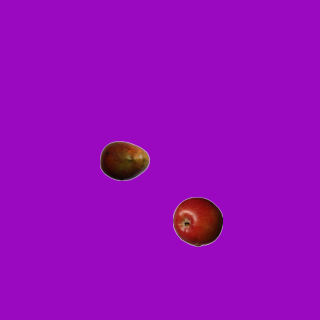Apple Braeburn: (172, 196, 222, 246)
Mango Red: (99, 135, 149, 185)
